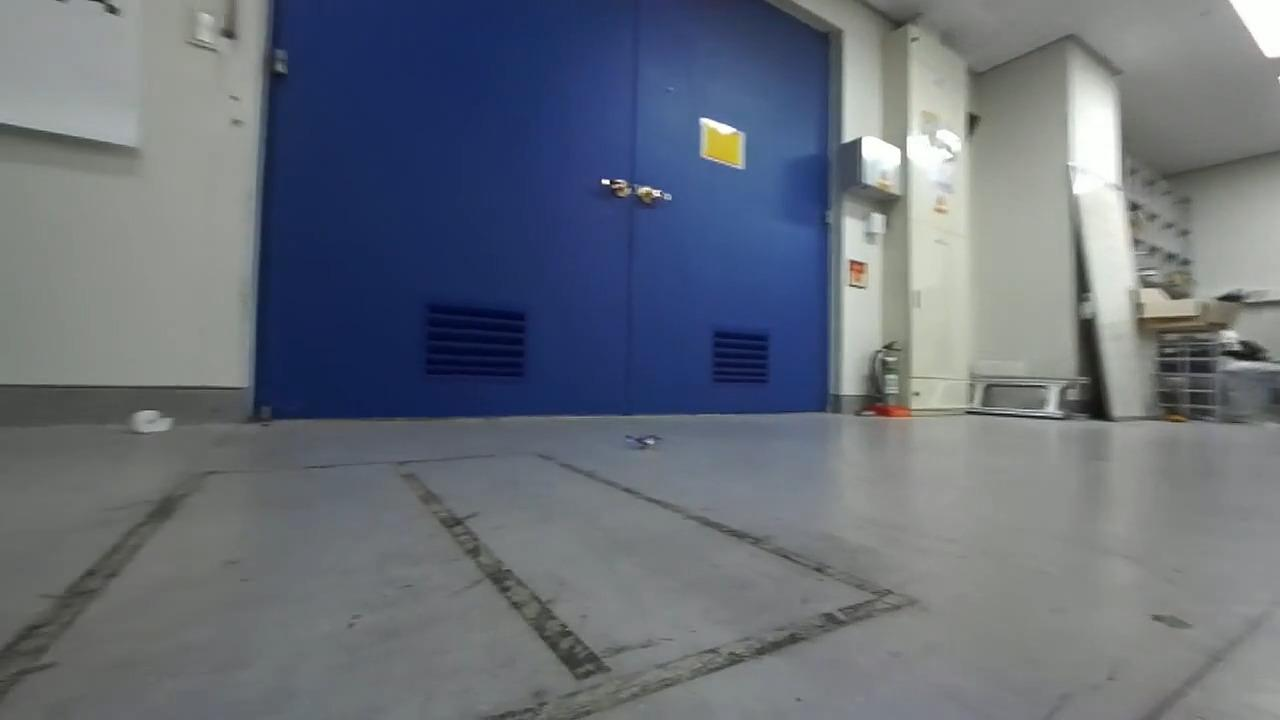crazyflie: (617, 425, 672, 455)
